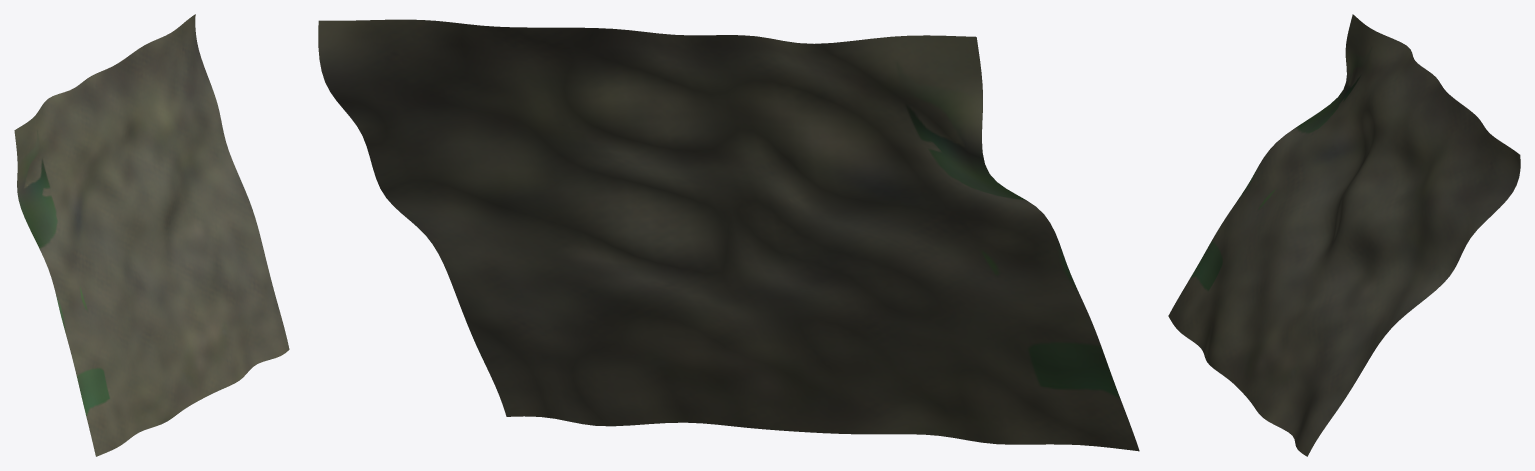
The model's file is ground_mid_00_01.obj.
The picture shows the model from 3 angles, left to right: view 1: azimuth 30°, elevation 25°; view 2: azimuth 150°, elevation 25°; view 3: azimuth 270°, elevation 25°; orthographic projection. The views are drawn at different scales.
Parts seen in each view (by area): view 1: ground_mid_00_01; view 2: ground_mid_00_01; view 3: ground_mid_00_01.
Boxes of the visible parts, x1,y1,x2,y2 form: ground_mid_00_01: [14, 14, 289, 456]; ground_mid_00_01: [318, 19, 1139, 451]; ground_mid_00_01: [1168, 14, 1520, 456].
Bounding box in the file's own units: 200 × 200 × 211.
Materials: 1 (1 with a texture image).
